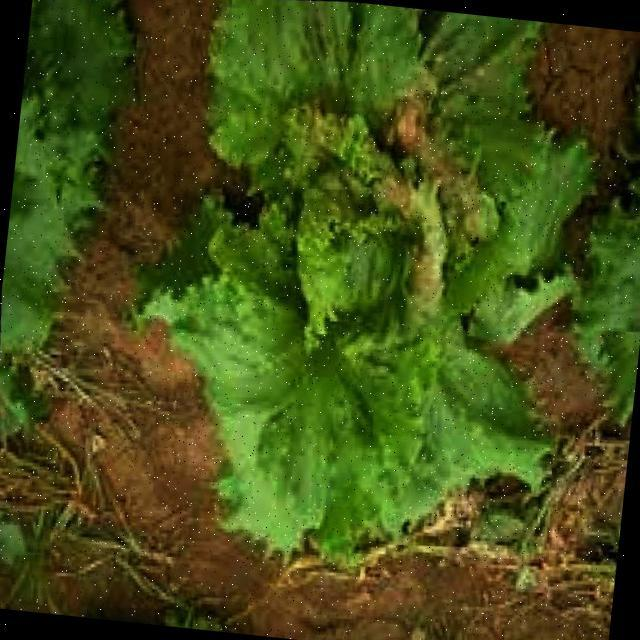Lettuce Mosaic Virus: (216, 2, 523, 519)
